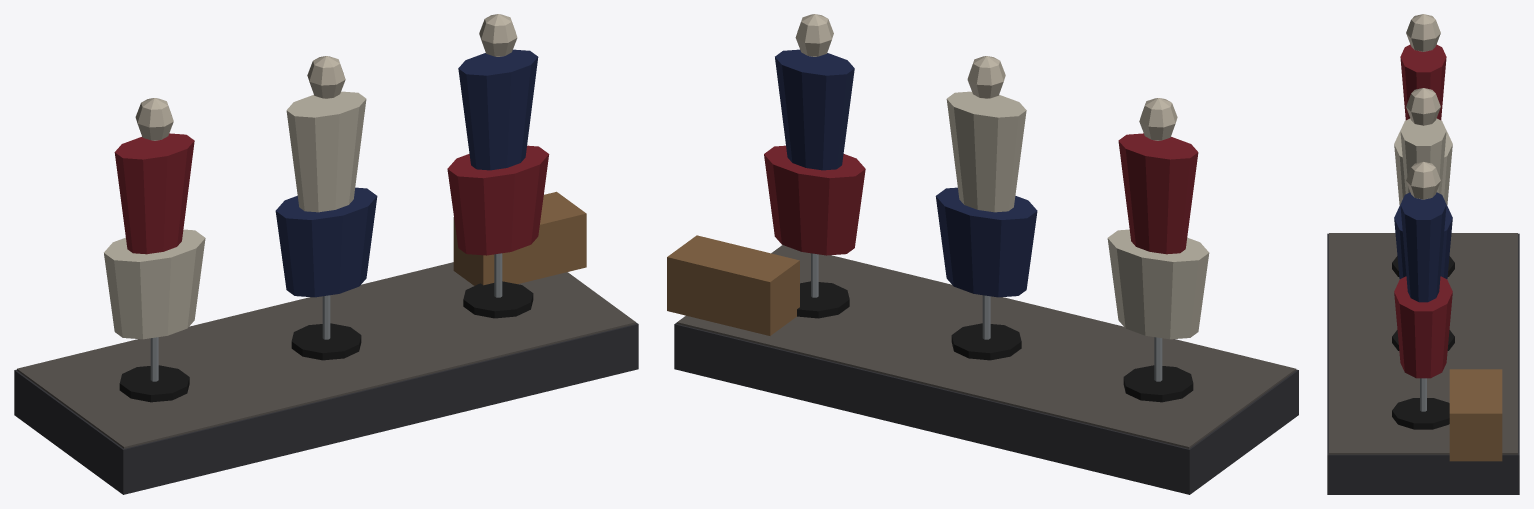
The model's file is display_boutique.glb.
The picture shows the model from 3 angles, left to right: view 1: azimuth 30°, elevation 25°; view 2: azimuth 150°, elevation 25°; view 3: azimuth 270°, elevation 25°; orthographic projection. The views are drawn at different scales.
Visible parts, largest first — view 1: display_boutique; view 2: display_boutique; view 3: display_boutique.
Part boxes in pixels (<box>): display_boutique: <box>14,14,638,494</box>; display_boutique: <box>667,14,1298,494</box>; display_boutique: <box>1327,14,1519,494</box>.
Size of the model in its own units: 3.1 by 1.87 by 1.1.
